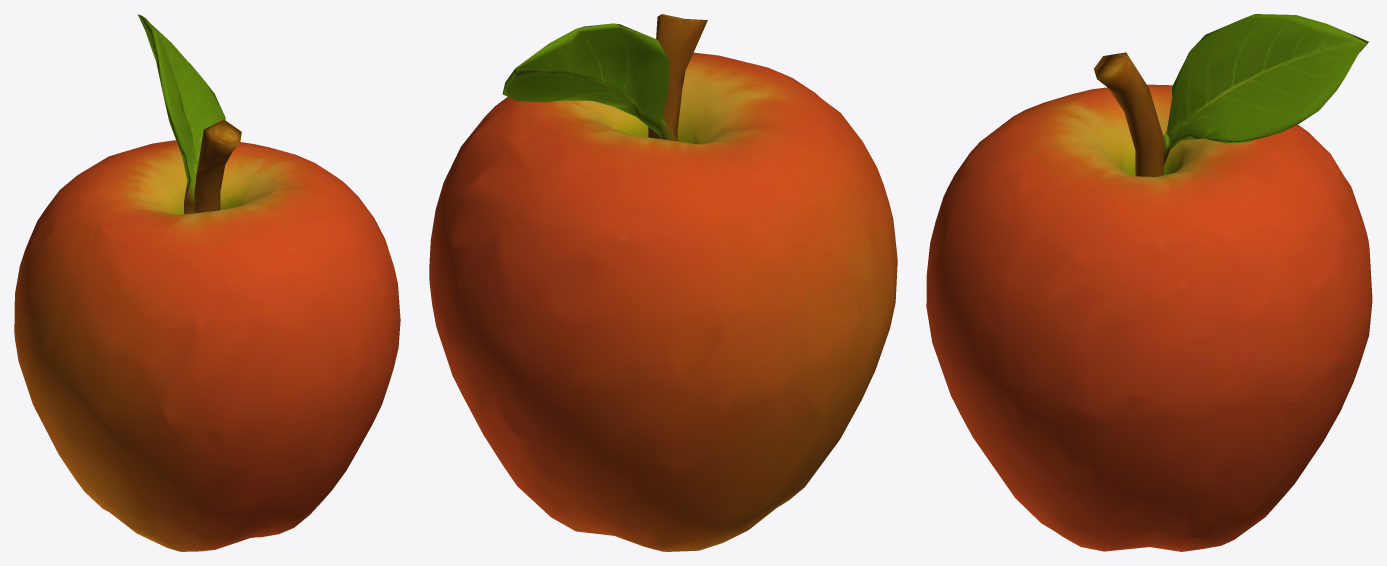
File: SM_Kitchen_Apple.glb
3 views of the same model, side by side, from view 1: azimuth 30°, elevation 25°; view 2: azimuth 150°, elevation 25°; view 3: azimuth 270°, elevation 25° (orthographic). The views are drawn at different scales.
Parts seen in each view (by area): view 1: tripo_node_c3f2737a-cf51-4517-a8fe-39a6bfdde11e; view 2: tripo_node_c3f2737a-cf51-4517-a8fe-39a6bfdde11e; view 3: tripo_node_c3f2737a-cf51-4517-a8fe-39a6bfdde11e.
Boxes of the visible parts, left/top/right/bottom form: tripo_node_c3f2737a-cf51-4517-a8fe-39a6bfdde11e: left=14, top=14, right=400, bottom=551; tripo_node_c3f2737a-cf51-4517-a8fe-39a6bfdde11e: left=429, top=14, right=897, bottom=551; tripo_node_c3f2737a-cf51-4517-a8fe-39a6bfdde11e: left=926, top=14, right=1372, bottom=551.
Bounding box in the file's own units: 0.7797 × 1 × 0.7834.
1 material, 1 textured.
